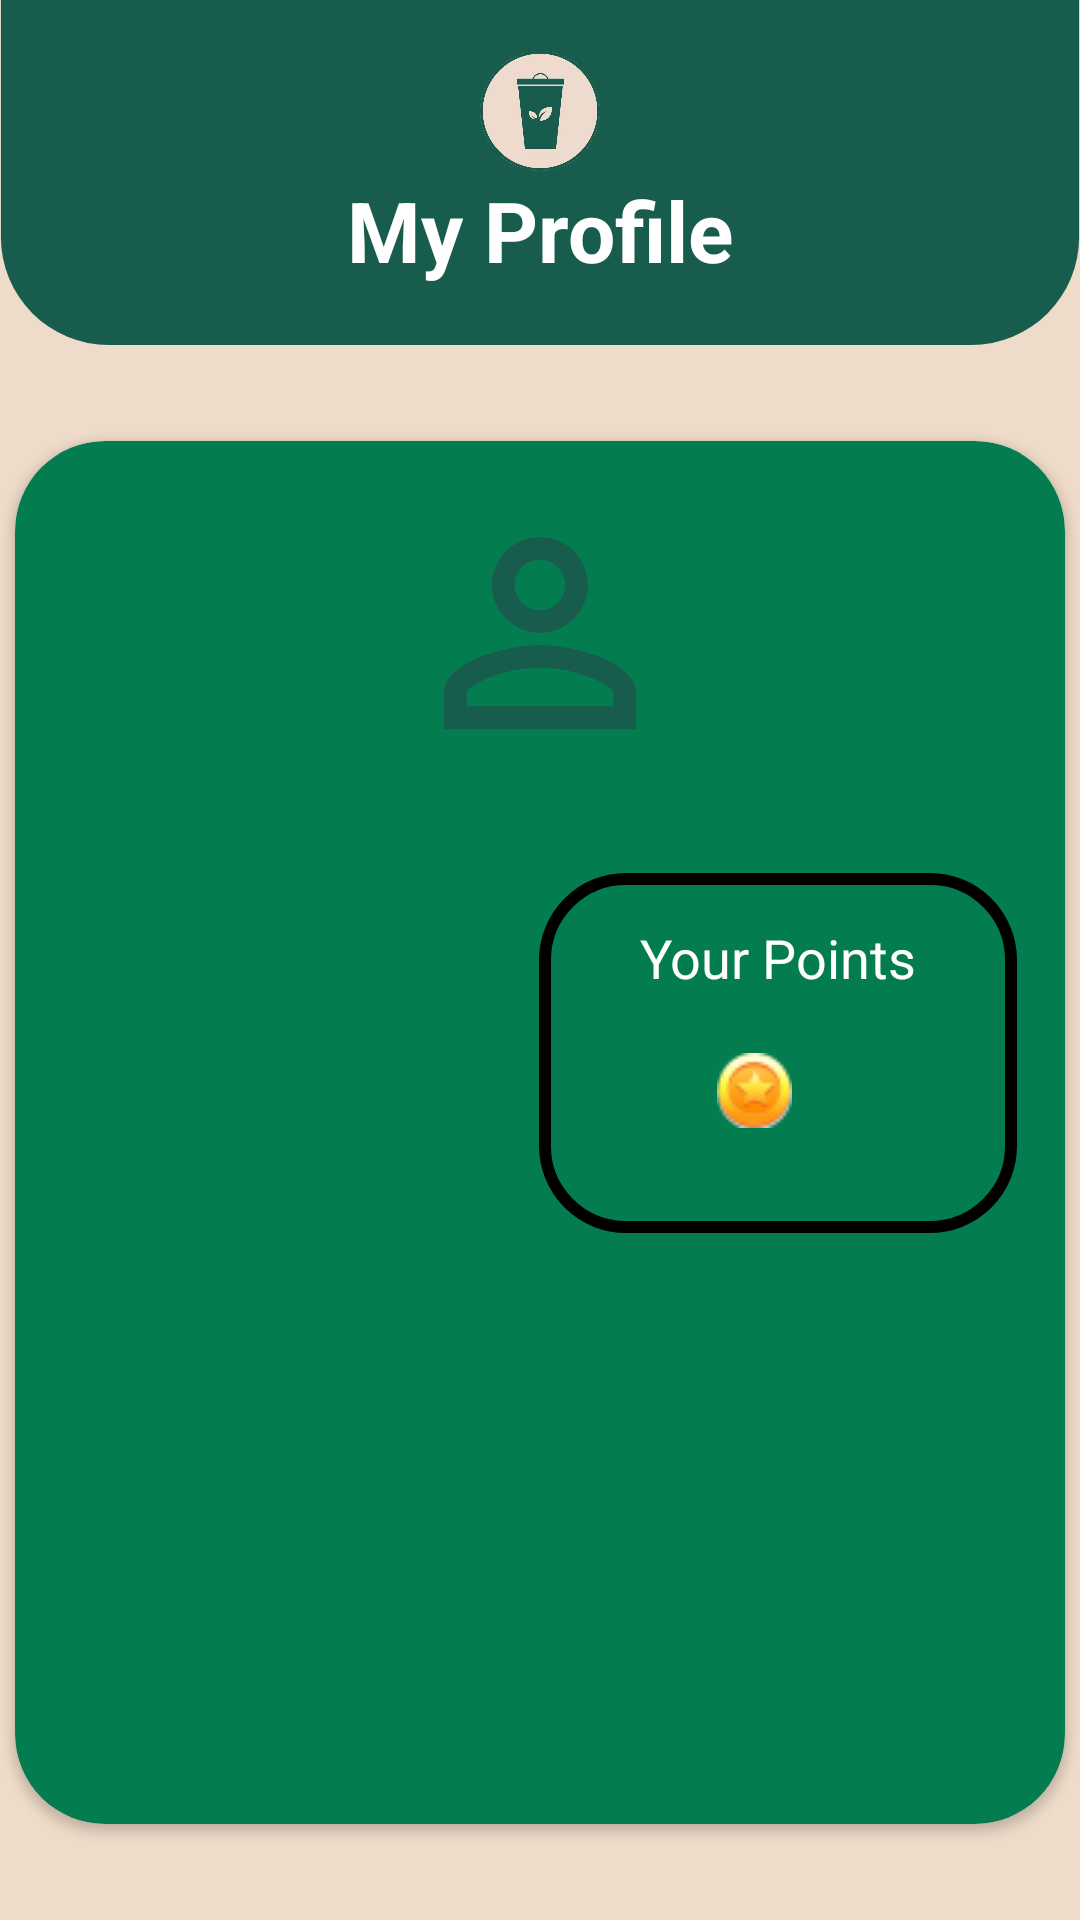

Where to tap for icons on this 1080 × 1920 app screen, as (x,y):
person: (540,633)
